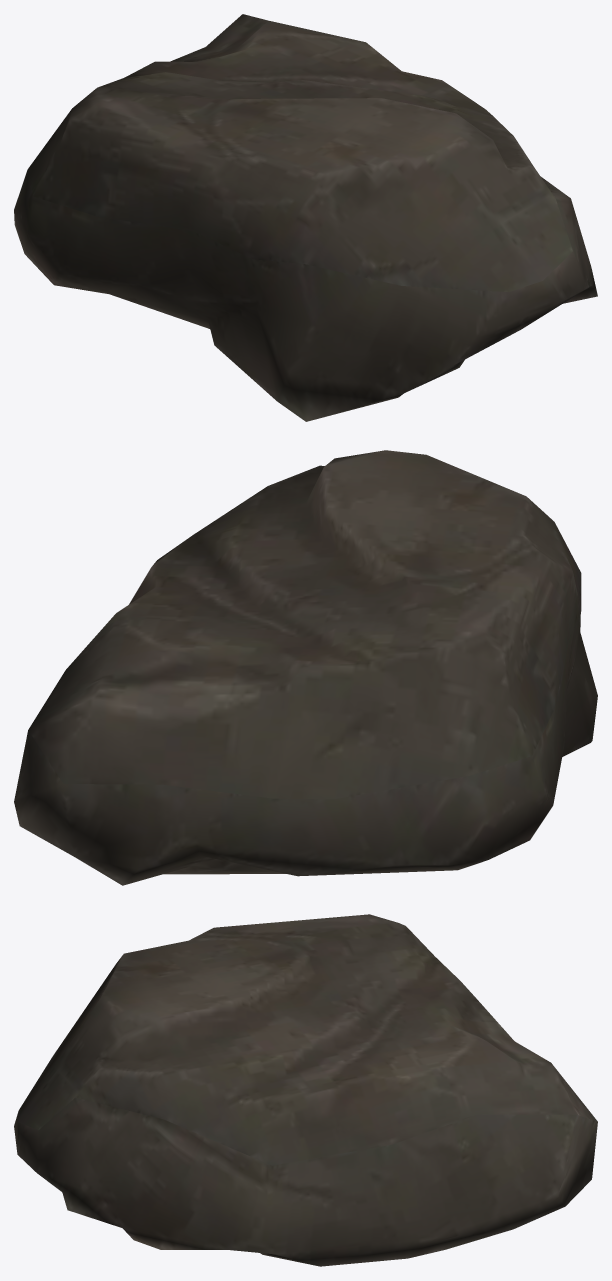
3 views of the same model, one above another, from view 1: azimuth 30°, elevation 25°; view 2: azimuth 150°, elevation 25°; view 3: azimuth 270°, elevation 25° (orthographic). The views are drawn at different scales.
Size of the model in its own units: 5.75 by 2.8 by 7.
Materials: 1 (1 with a texture image).
